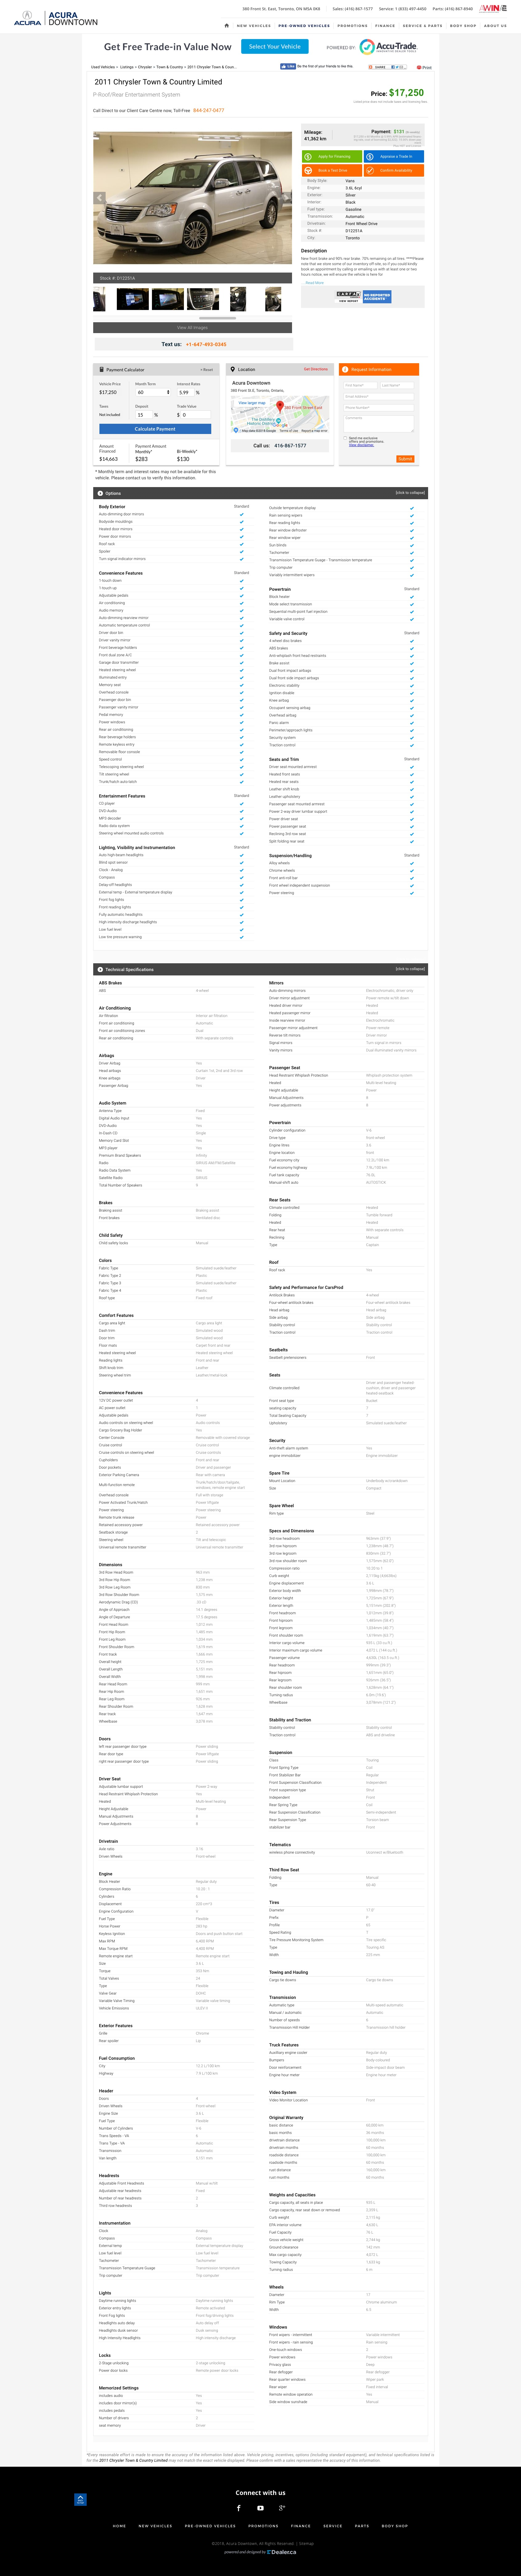car: (279, 191, 294, 205)
